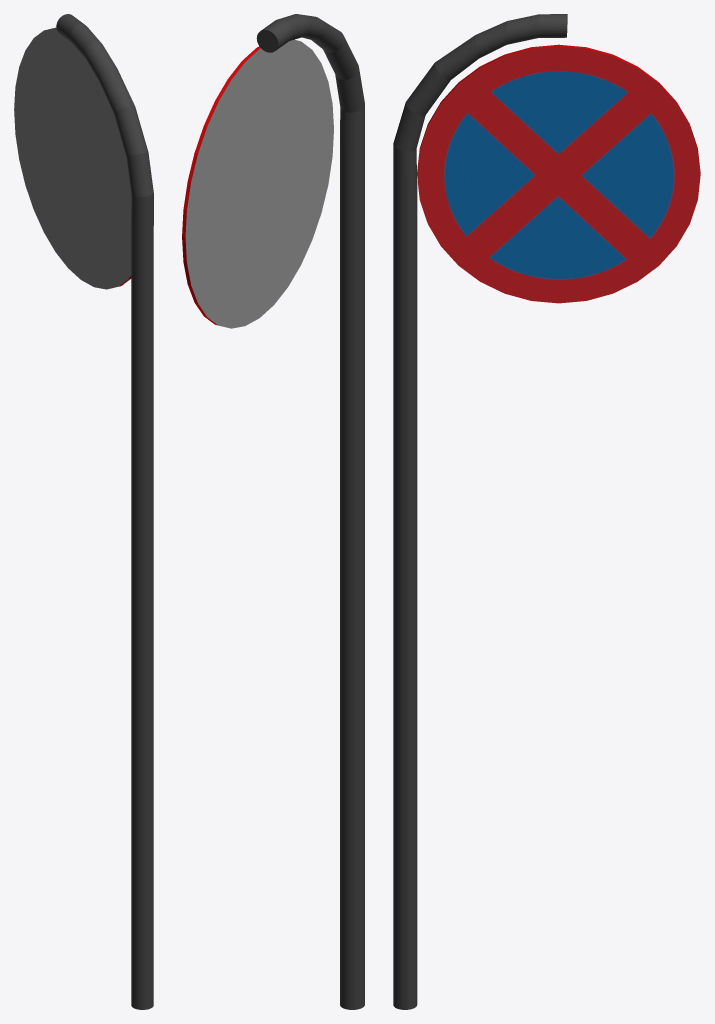
File: SignNoParkingWithPole.fbx
The picture shows the model from 3 angles, left to right: view 1: azimuth 30°, elevation 25°; view 2: azimuth 150°, elevation 25°; view 3: azimuth 270°, elevation 25°; orthographic projection. The views are drawn at different scales.
Visible parts, largest first — view 1: SignNoParkingWithPole; view 2: SignNoParkingWithPole; view 3: SignNoParkingWithPole.
Boxes of the visible parts, <box> form: SignNoParkingWithPole: <box>14,14,153,1009</box>; SignNoParkingWithPole: <box>182,14,364,1009</box>; SignNoParkingWithPole: <box>393,14,700,1009</box>.
Size of the model in its own units: 5.97 by 223 by 62.68.
